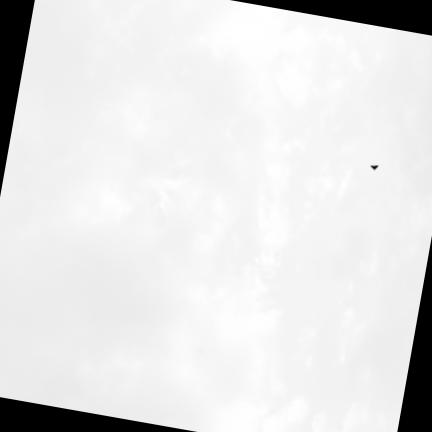Shahed: (370, 165, 378, 169)
